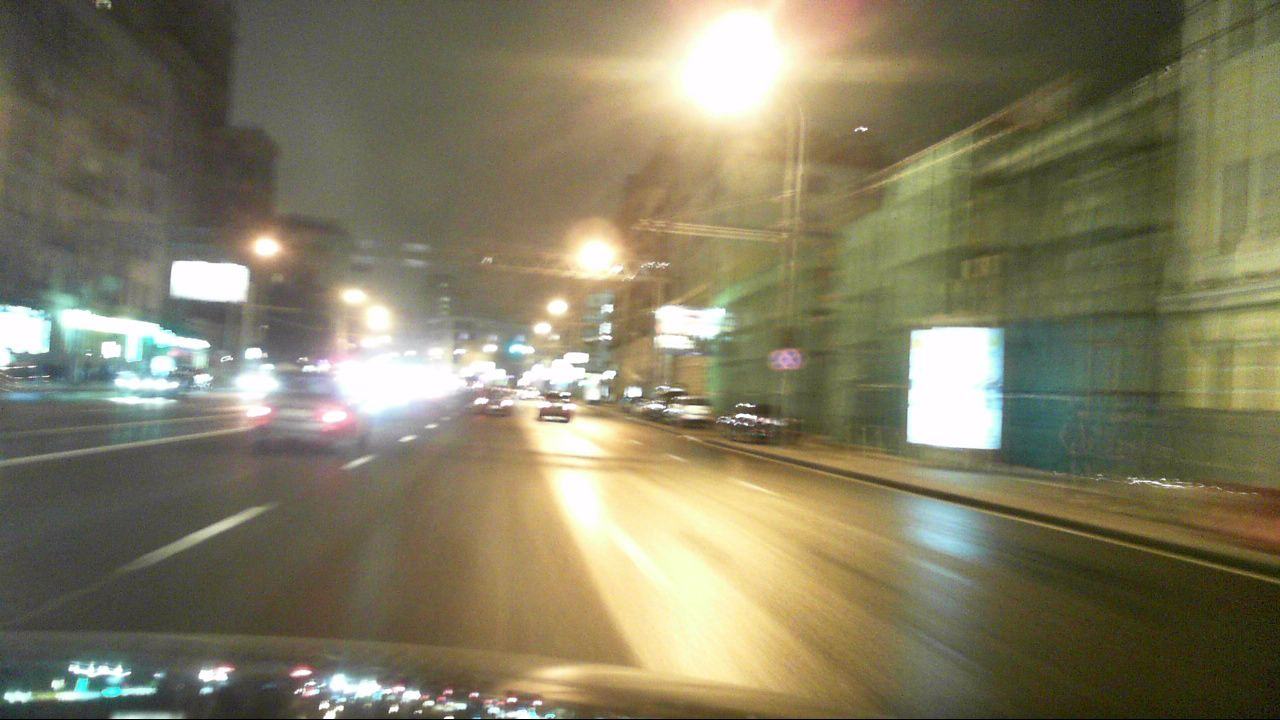No Parking: (780, 348, 801, 369)
